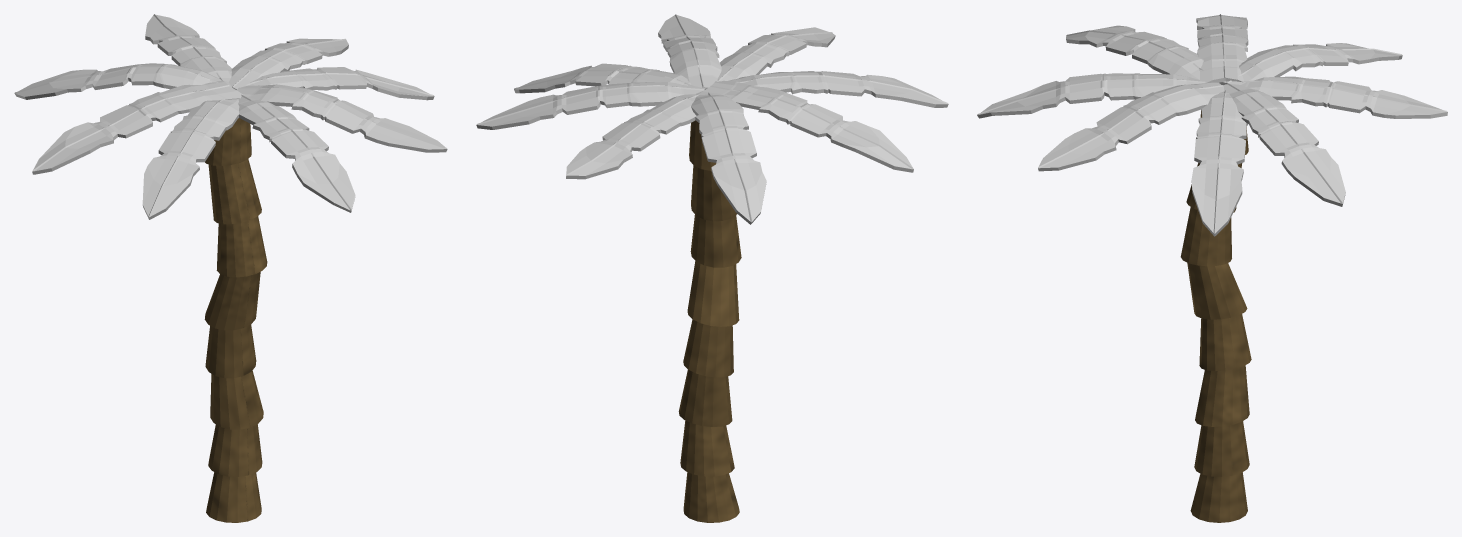
File: PalmTrees1.fbx
3 views of the same model, side by side, from view 1: azimuth 30°, elevation 25°; view 2: azimuth 150°, elevation 25°; view 3: azimuth 270°, elevation 25° (orthographic).
Parts seen in each view (by area): view 1: leaf.001, Palm Tree.001; view 2: leaf.001, Palm Tree.001; view 3: leaf.001, Palm Tree.001.
Boxes of the visible parts, x1,y1,x2,y2 form: leaf.001: [14, 14, 447, 219]; Palm Tree.001: [204, 118, 267, 522]; leaf.001: [476, 14, 948, 224]; Palm Tree.001: [678, 120, 741, 522]; leaf.001: [977, 14, 1447, 236]; Palm Tree.001: [1180, 110, 1251, 522].
Size of the model in its own units: 221 by 228 by 221.
